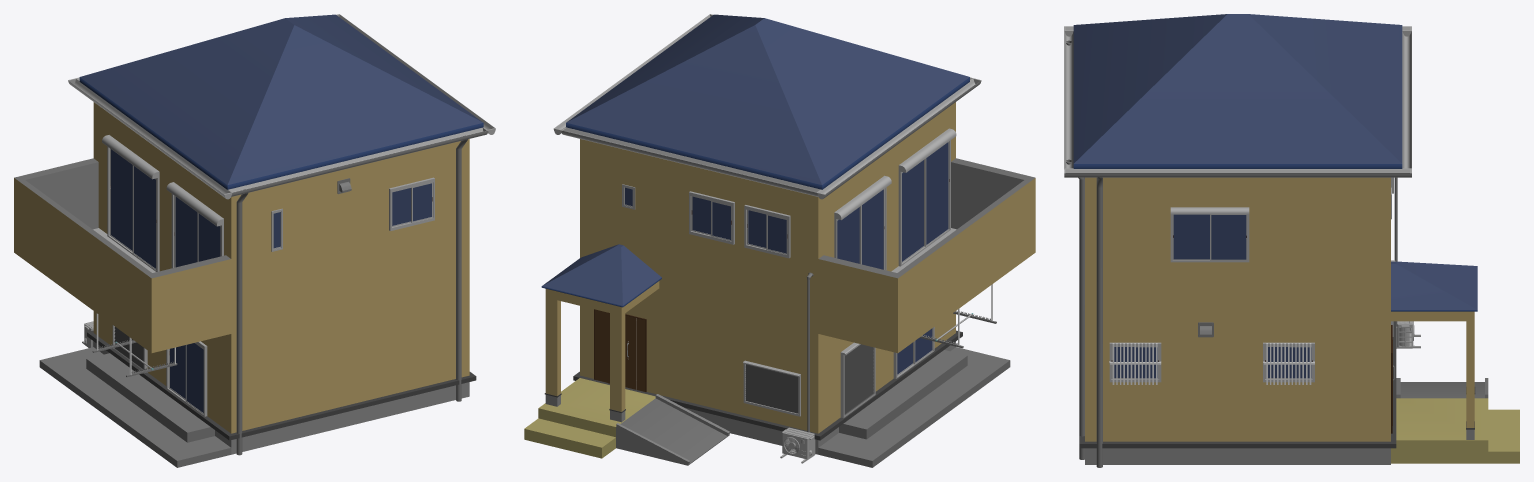
File: house015.fbx
The picture shows the model from 3 angles, left to right: view 1: azimuth 30°, elevation 25°; view 2: azimuth 150°, elevation 25°; view 3: azimuth 270°, elevation 25°; orthographic projection. The views are drawn at different scales.
Parts seen in each view (by area): view 1: house015; view 2: house015; view 3: house015.
Part boxes in pixels (x1,y1,x2,y2): house015: [14, 14, 495, 467]; house015: [524, 14, 1035, 467]; house015: [1064, 14, 1519, 467].
Size of the model in its own units: 8.21 by 8.31 by 8.71.
